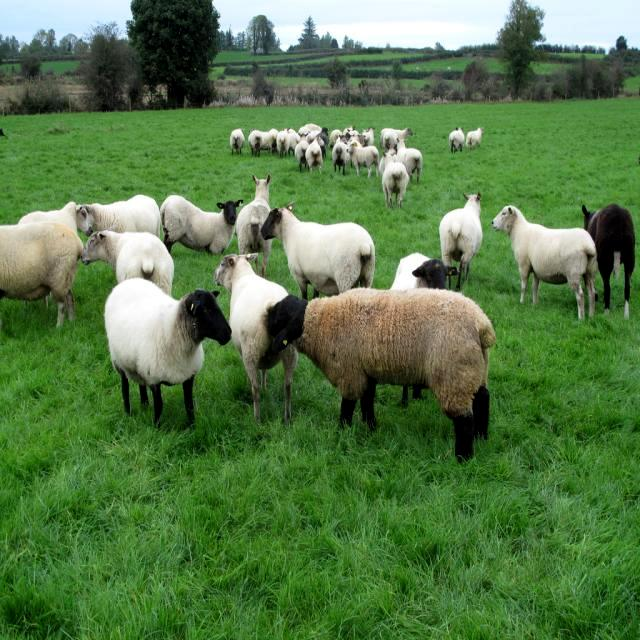sheep: (498, 204, 598, 313)
